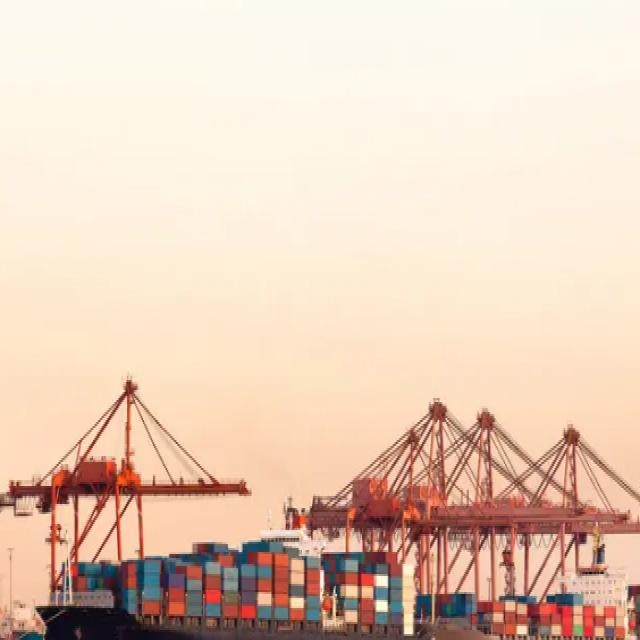cargoship: (49, 494, 436, 640)
